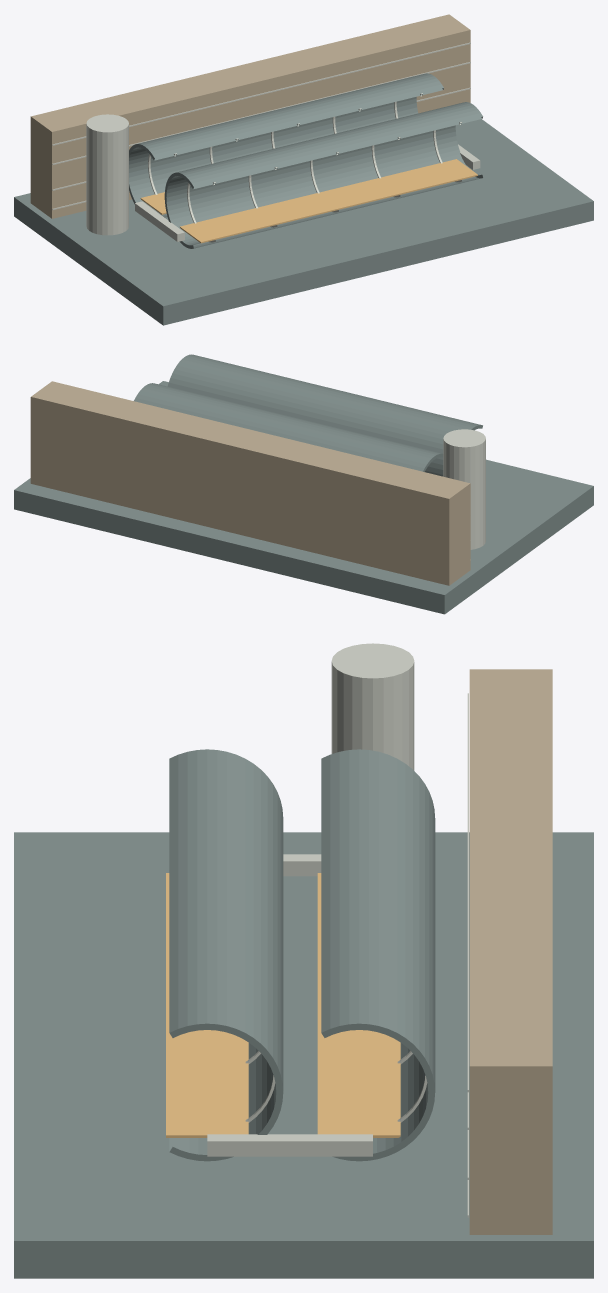
Rendered from world-caverns.glb.
3 renders of one model, top to bottom at view 1: azimuth 30°, elevation 25°; view 2: azimuth 150°, elevation 25°; view 3: azimuth 270°, elevation 25°, orthographic. The views are drawn at different scales.
Visible parts, largest first — view 1: stage-0-excavated-strata.007, stage-2-excavated-strata.007, stage-0-compacted-fill.007, stage-4-safety-ochre.007, stage-1-warm-concrete.007, stage-0-warm-concrete.007, stage-3-warm-concrete.007, stage-4-warm-concrete.007; view 2: stage-0-compacted-fill.007, stage-0-excavated-strata.007, stage-2-excavated-strata.007, stage-1-warm-concrete.007; view 3: stage-0-excavated-strata.007, stage-2-excavated-strata.007, stage-0-compacted-fill.007, stage-4-safety-ochre.007, stage-1-warm-concrete.007, stage-4-warm-concrete.007, stage-0-warm-concrete.007.
Boxes of the visible parts, x1=… form: stage-0-excavated-strata.007: x1=14, y1=119, x2=593, y2=325; stage-2-excavated-strata.007: x1=129, y1=73, x2=482, y2=248; stage-0-compacted-fill.007: x1=30, y1=14, x2=470, y2=218; stage-4-safety-ochre.007: x1=140, y1=159, x2=477, y2=243; stage-1-warm-concrete.007: x1=86, y1=114, x2=128, y2=235; stage-0-warm-concrete.007: x1=52, y1=42, x2=470, y2=210; stage-3-warm-concrete.007: x1=148, y1=93, x2=462, y2=242; stage-4-warm-concrete.007: x1=135, y1=144, x2=480, y2=241; stage-0-compacted-fill.007: x1=30, y1=381, x2=470, y2=585; stage-0-excavated-strata.007: x1=14, y1=381, x2=593, y2=614; stage-2-excavated-strata.007: x1=134, y1=354, x2=482, y2=476; stage-1-warm-concrete.007: x1=443, y1=429, x2=485, y2=549; stage-0-excavated-strata.007: x1=14, y1=832, x2=593, y2=1278; stage-2-excavated-strata.007: x1=169, y1=749, x2=435, y2=1161; stage-0-compacted-fill.007: x1=469, y1=669, x2=552, y2=1234; stage-4-safety-ochre.007: x1=166, y1=873, x2=400, y2=1137; stage-1-warm-concrete.007: x1=331, y1=643, x2=414, y2=770; stage-4-warm-concrete.007: x1=207, y1=854, x2=372, y2=1156; stage-0-warm-concrete.007: x1=467, y1=693, x2=468, y2=1217.
Size of the model in its own units: 70 by 19.5 by 42.
